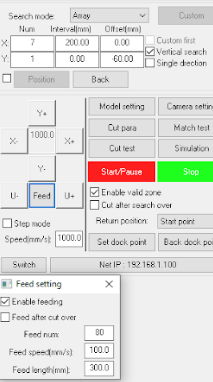start: (87, 160, 155, 182)
timer: (101, 23, 144, 68)
